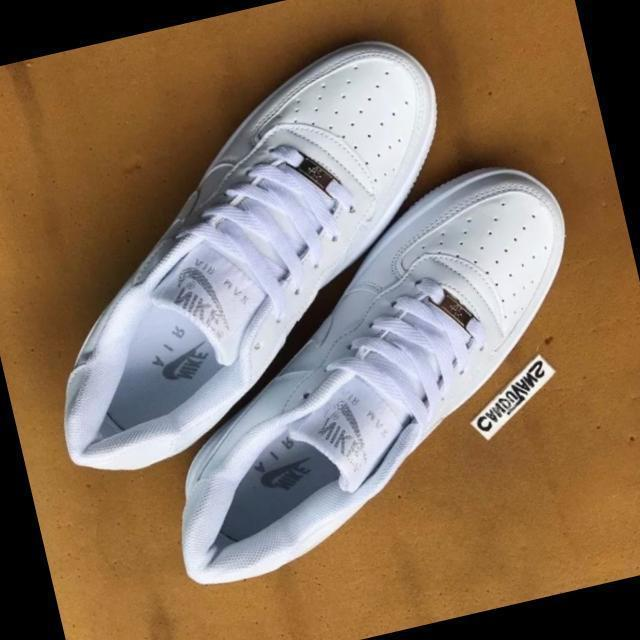nike fake air force: (96, 150, 626, 594), (0, 25, 503, 486)
